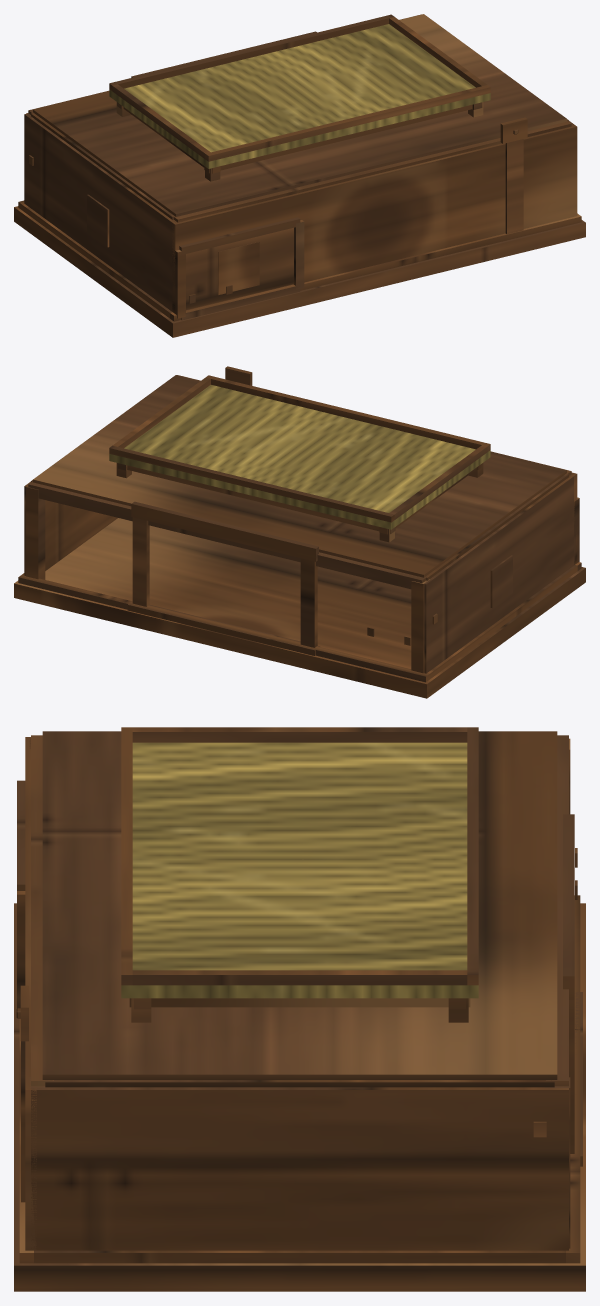
The picture shows the model from 3 angles, top to bottom: view 1: azimuth 30°, elevation 25°; view 2: azimuth 150°, elevation 25°; view 3: azimuth 270°, elevation 25°; orthographic projection. The views are drawn at different scales.
Visible parts, largest first — view 1: SM_HDBF_BoxFarm_Basic_LOD2; view 2: SM_HDBF_BoxFarm_Basic_LOD2; view 3: SM_HDBF_BoxFarm_Basic_LOD2.
Part boxes in pixels (<box>): SM_HDBF_BoxFarm_Basic_LOD2: <box>14,14,585,337</box>; SM_HDBF_BoxFarm_Basic_LOD2: <box>14,366,585,698</box>; SM_HDBF_BoxFarm_Basic_LOD2: <box>14,727,585,1291</box>.
Size of the model in its own units: 3 by 1 by 2.
2 materials, 2 textured.
